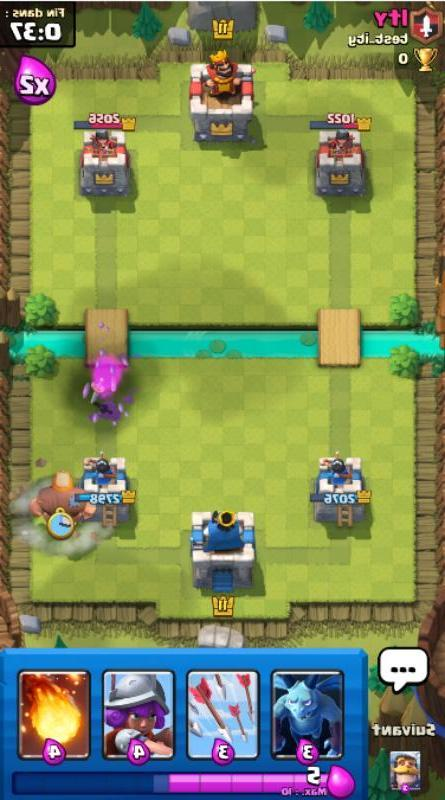player_giant: (26, 469, 99, 527)
